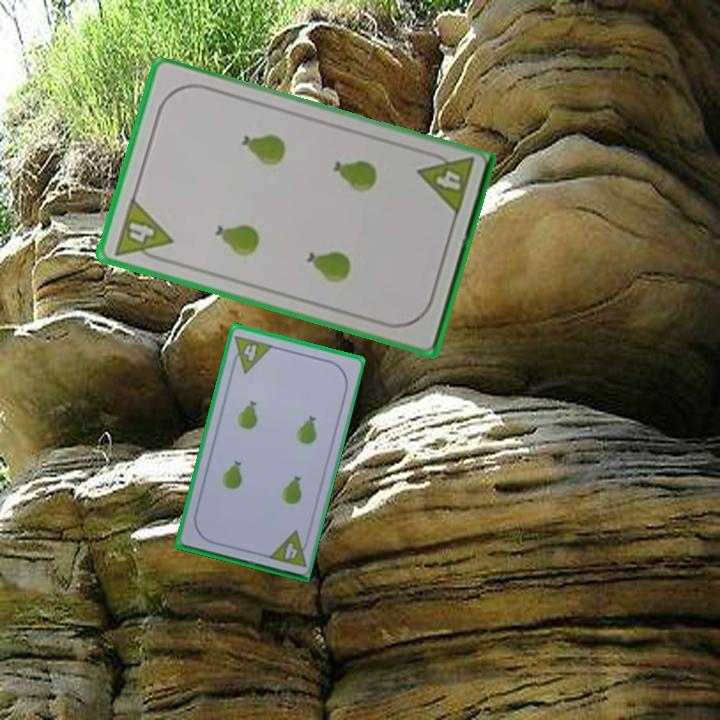4p: (110, 194, 176, 267), (414, 147, 477, 220), (227, 332, 275, 376), (264, 527, 313, 570)
